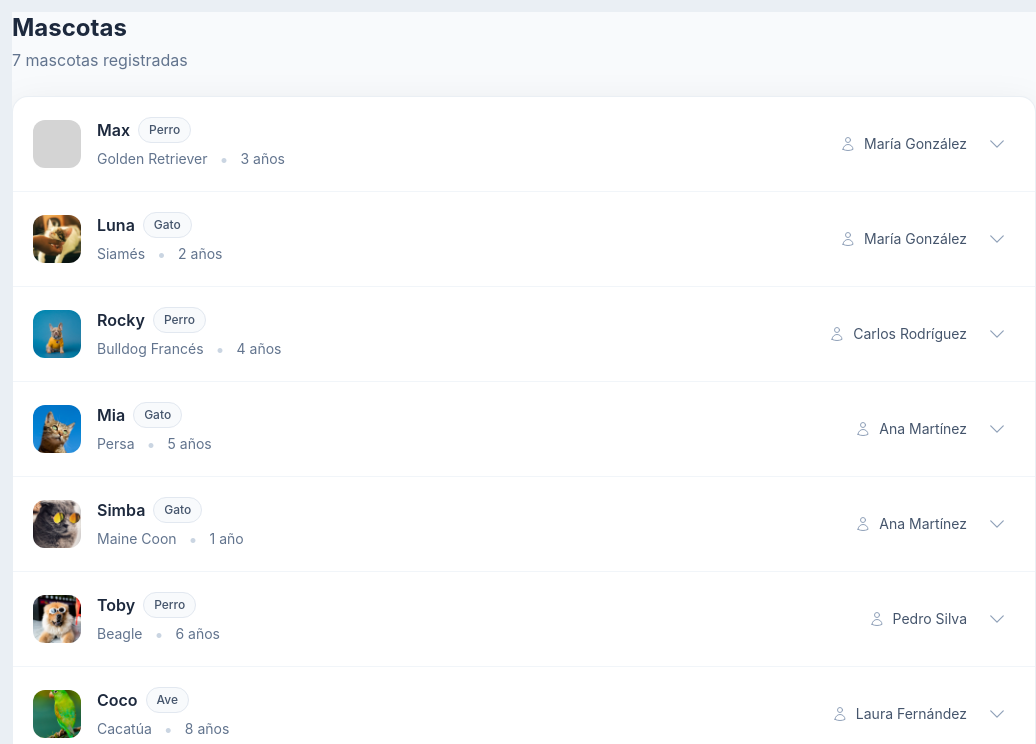
Test case: PetsPage › Expandir mascota - Historial médico › muestra mensaje cuando no hay historial médico
Check: the heading "Mia" is shown, box [97,403,125,427]
// Mia no tiene historial médico
Click the text "Mia" at coordinates (57, 429), box [33,402,1015,454]
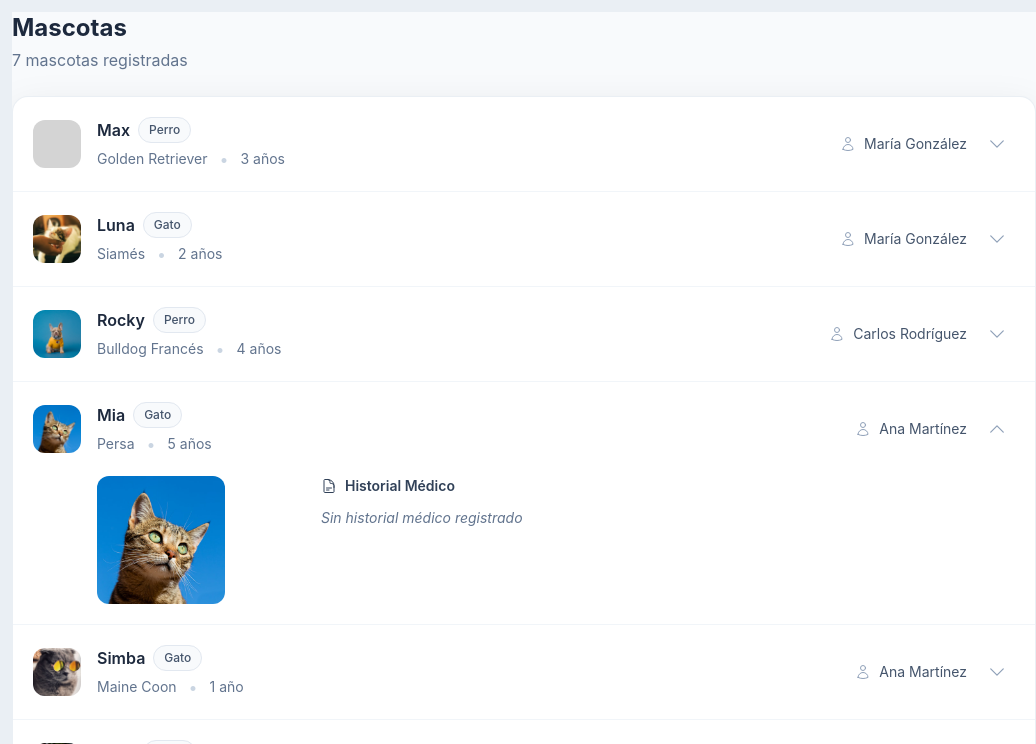
Check: the text "Sin historial médico registrado" is shown, box [321,509,523,526]
